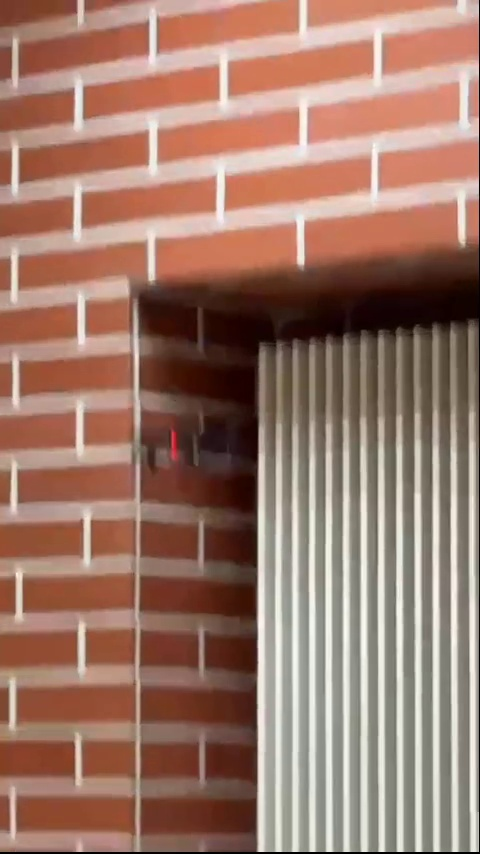drone: (127, 422, 262, 479)
